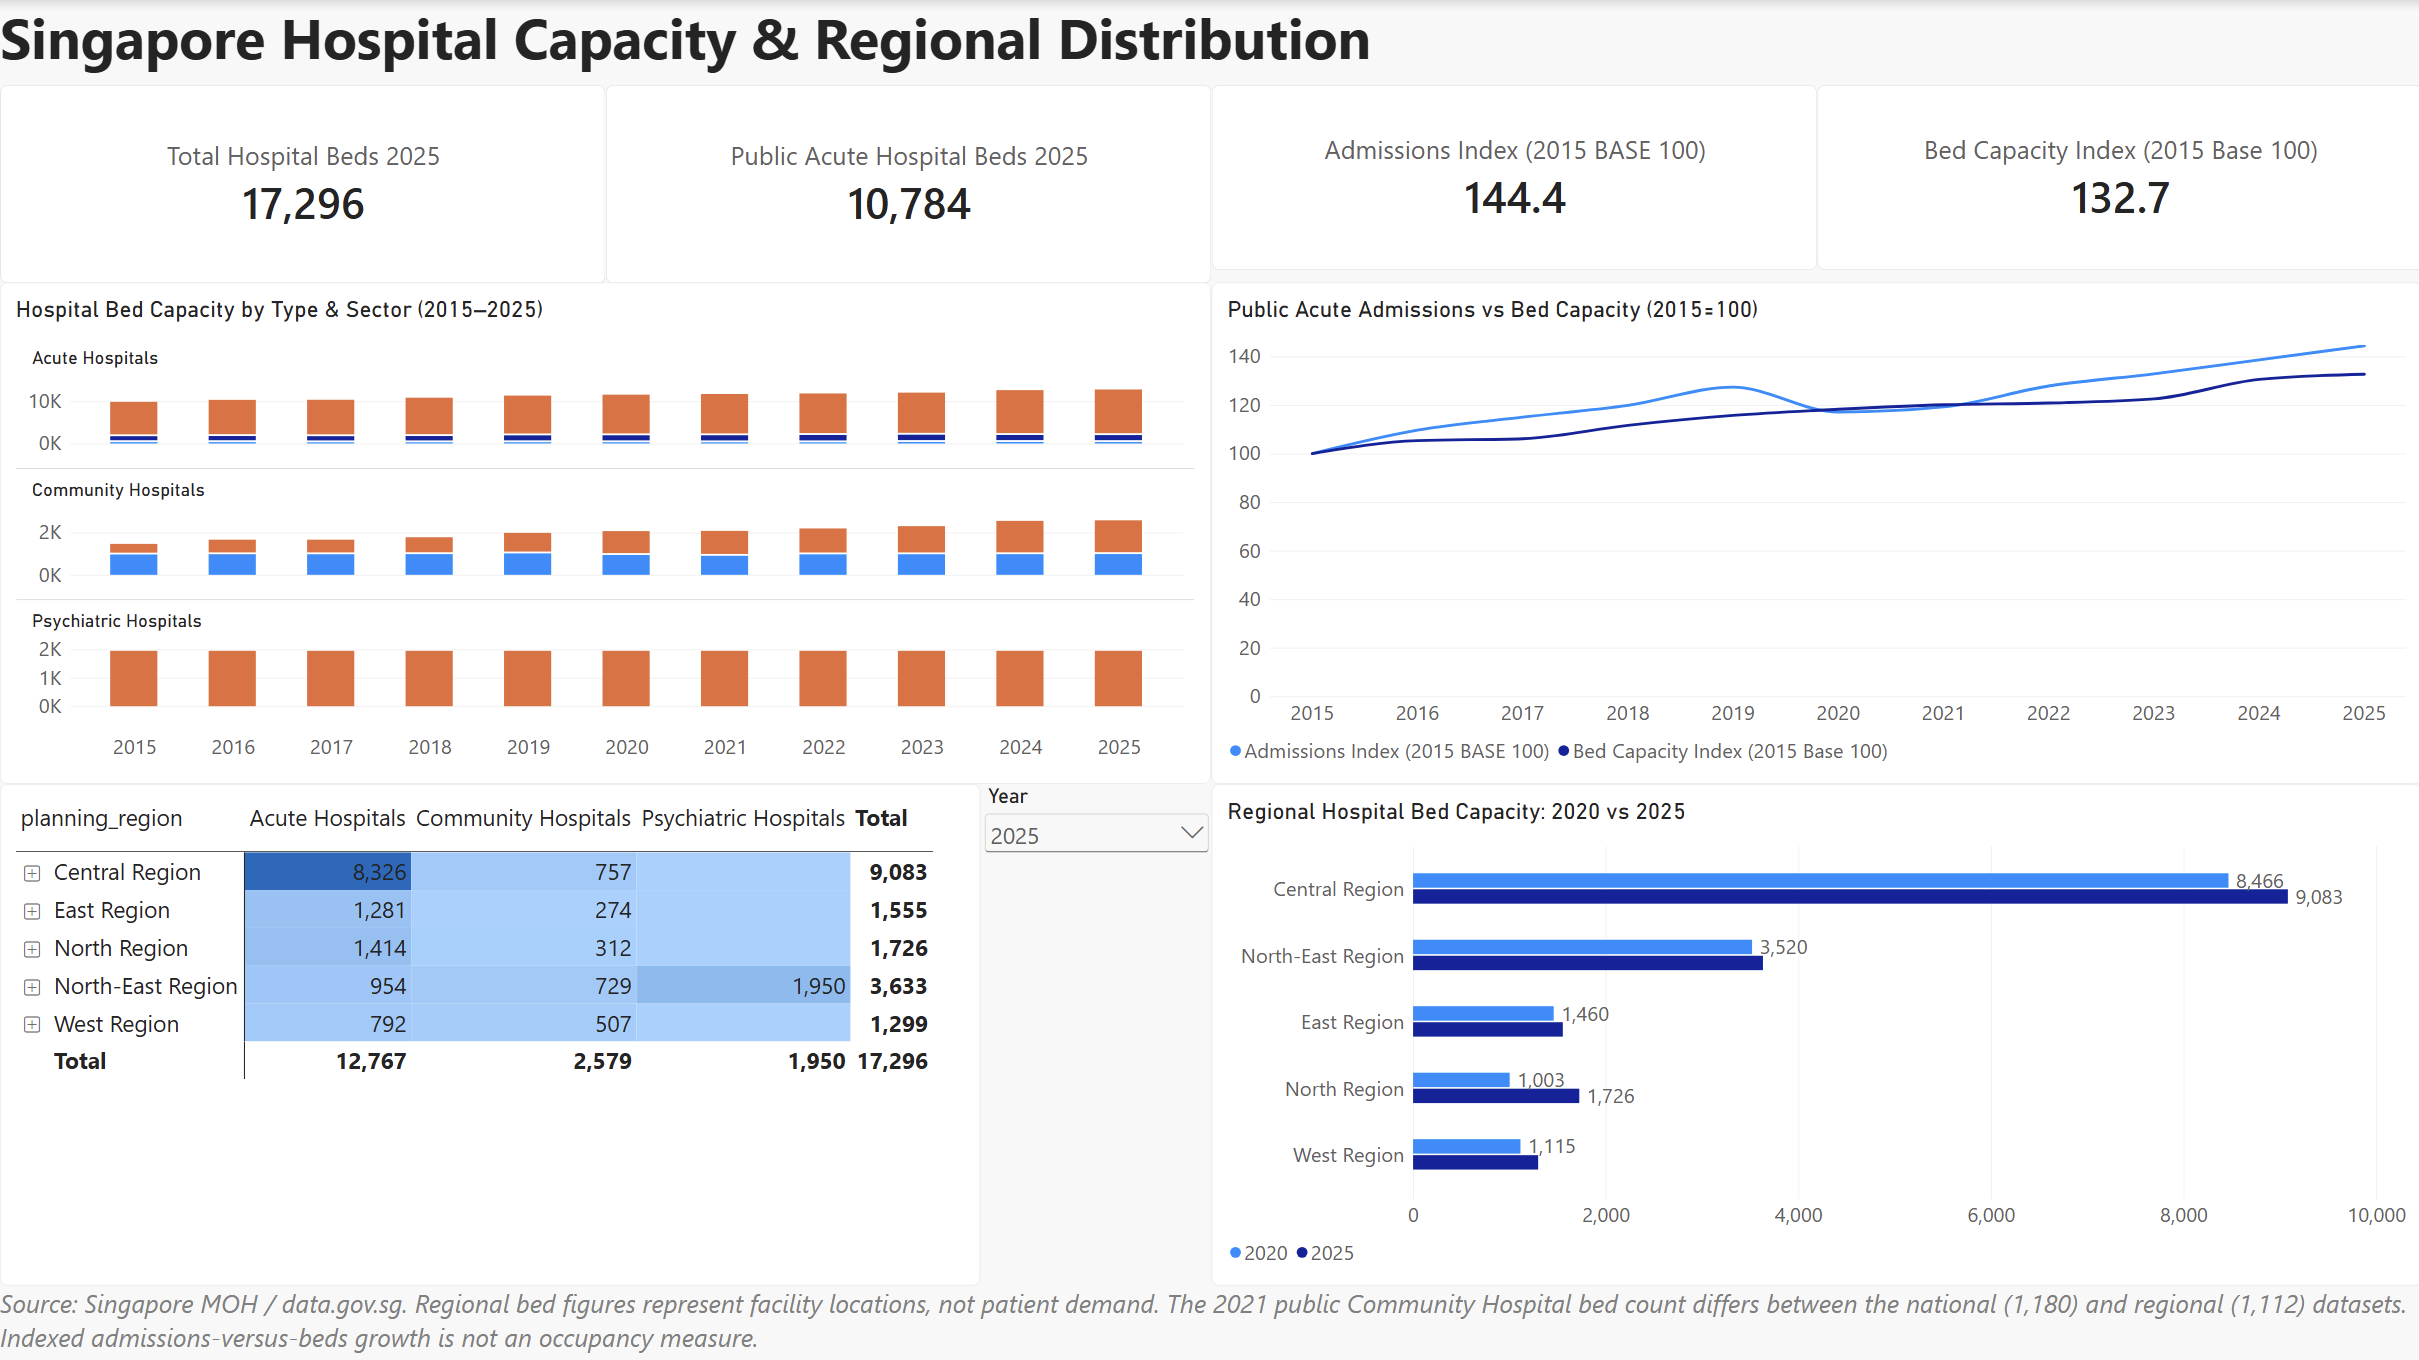

The dashboard page shown, as its layout file describes it:
{"tool":"powerbi","page":{"name":"Hospital Capacity & Regions","canvas":[2560,1440],"ordinal":1},"visuals":[{"type":"cardVisual","fields":{"Data":["Facilities Annual.Total Hospital Beds 2025"]},"box":[0,90,640,210],"z":0},{"type":"cardVisual","fields":{"Data":["Facilities Annual.Public Acute Hospital Beds 2025"]},"box":[640,90,640,210],"z":1000},{"type":"cardVisual","fields":{"Data":["Monthly Utilisation.Admissions Index (2015 BASE 100)"]},"box":[1280,90,640,196.7],"z":2000},{"type":"cardVisual","fields":{"Data":["Facilities Annual.Bed Capacity Index (2015 Base 100)"]},"box":[1920,90,640,196.7],"z":3000},{"type":"columnChart","title":"Hospital Bed Capacity by Type & Sector (2015–2025)","fields":{"Category":["Year.Year"],"Rows":["Facilities Annual.facility_type"],"Series":["Facilities Annual.sector"],"Y":["Facilities Annual.Total Hospital Beds"]},"box":[0,300,1280,530],"z":4000},{"type":"lineChart","title":"\tPublic Acute Admissions vs Bed Capacity (2015=100)","fields":{"Category":["Year.Year"],"Y":["Monthly Utilisation.Admissions Index (2015 BASE 100)","Facilities Annual.Bed Capacity Index (2015 Base 100)"]},"box":[1280,300,1280,530],"z":5000},{"type":"pivotTable","fields":{"Columns":["Regional Beds Annual.facility_type"],"Rows":["Regional Beds Annual.planning_region","Regional Beds Annual.year"],"Values":["Regional Beds Annual.Regional Hospital Beds"]},"box":[0,830,1036,530],"z":6000},{"type":"clusteredBarChart","title":"\tRegional Hospital Bed Capacity: 2020 vs 2025","fields":{"Category":["Regional Beds Annual.planning_region"],"Series":["Regional Beds Annual.year"],"Y":["Regional Beds Annual.Regional Hospital Beds"]},"box":[1280,830,1280,530],"z":7000},{"type":"slicer","fields":{"Values":["Regional Beds Annual.year"]},"box":[1036.7,830,246.7,530],"z":8000},{"type":"textbox","box":[0,0,2560,90],"z":8001},{"type":"textbox","box":[0,1360,2560,80],"z":8002}]}

Visuals, with their boxes in screenshot pixels (x1, y1, x2, y2), scaled from the page's 2560x1440 canvas onto the 2419x1360 screenshot:
cardVisual - Facilities Annual.Total Hospital Beds 2025: <region>0, 85, 605, 283</region>
cardVisual - Facilities Annual.Public Acute Hospital Beds 2025: <region>605, 85, 1210, 283</region>
cardVisual - Monthly Utilisation.Admissions Index (2015 BASE 100): <region>1210, 85, 1814, 271</region>
cardVisual - Facilities Annual.Bed Capacity Index (2015 Base 100): <region>1814, 85, 2418, 271</region>
"Hospital Bed Capacity by Type & Sector (2015–2025)" columnChart: <region>0, 283, 1210, 784</region>
"	Public Acute Admissions vs Bed Capacity (2015=100)" lineChart: <region>1210, 283, 2418, 784</region>
pivotTable - Regional Beds Annual.facility_type x Regional Beds Annual.planning_region: <region>0, 784, 979, 1284</region>
"	Regional Hospital Bed Capacity: 2020 vs 2025" clusteredBarChart: <region>1210, 784, 2418, 1284</region>
slicer - Regional Beds Annual.year: <region>980, 784, 1213, 1284</region>
textbox: <region>0, 0, 2418, 85</region>
textbox: <region>0, 1284, 2418, 1359</region>
